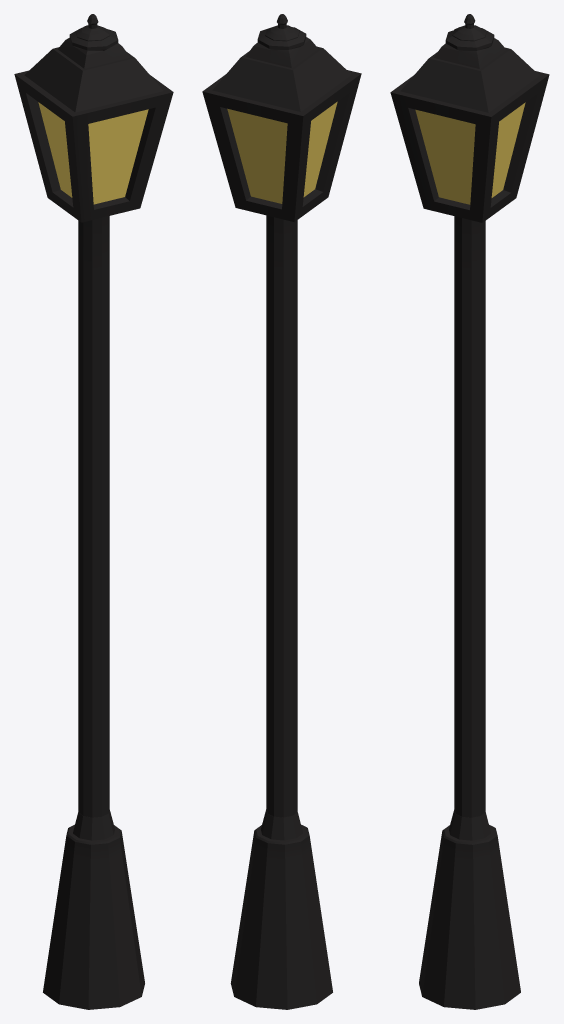
The model's file is Lampadaire 1.fbx.
3 renders of one model, left to right at view 1: azimuth 30°, elevation 25°; view 2: azimuth 150°, elevation 25°; view 3: azimuth 330°, elevation 25°, orthographic.
Parts seen in each view (by area): view 1: Cube.008; view 2: Cube.008; view 3: Cube.008.
Part boxes in pixels (<box>): Cube.008: <box>14,14,173,1009</box>; Cube.008: <box>202,14,361,1009</box>; Cube.008: <box>390,14,549,1009</box>.
Bounding box in the file's own units: 96.56 × 96.56 × 889.
Materials: 1 (1 with a texture image).
